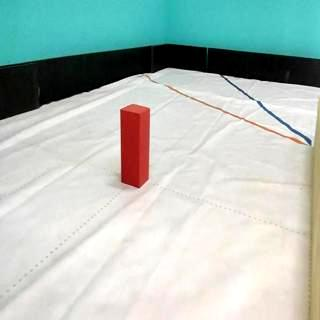redbox: (120, 102, 152, 189)
